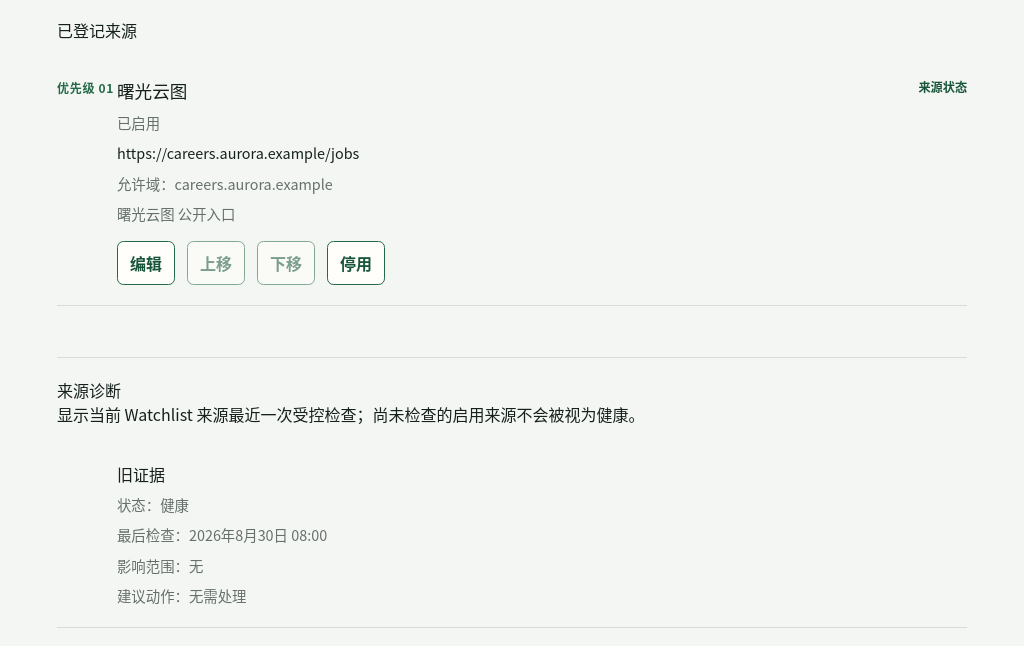
it: health 刷新失败后编辑或取消不会移除恢复入口，重试成功才恢复诊断
(page scrolled)
Click the button with aria-label "停用 曙光云图" at (356, 263), box [327, 241, 385, 285]
(page scrolled)
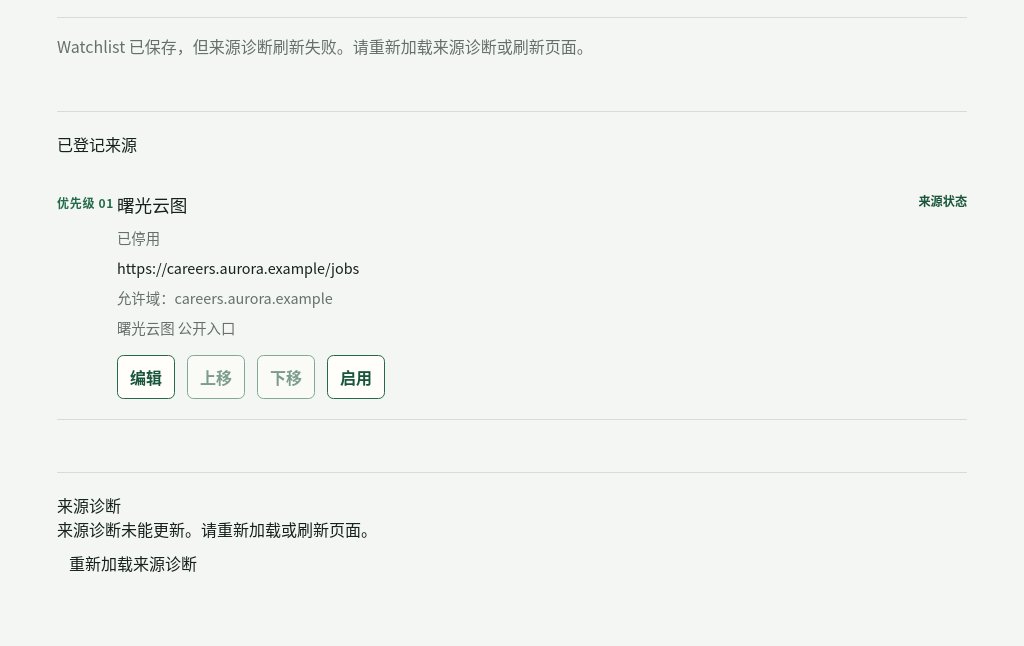
Expected: the message does not show "来源已停用。", [57, 17, 967, 60]
Now the text "Watchlist 已保存，但来源诊断刷新失败。请重新加载来源诊断或刷新页面。" is shown, box [57, 17, 967, 60]
Now the message reads "Watchlist 已保存，但来源诊断刷新失败。请重新加载来源诊断或刷新页面。", box [57, 34, 593, 58]
Click the button with aria-label "编辑 曙光云图" at (146, 377), box [117, 355, 175, 399]
(page scrolled)
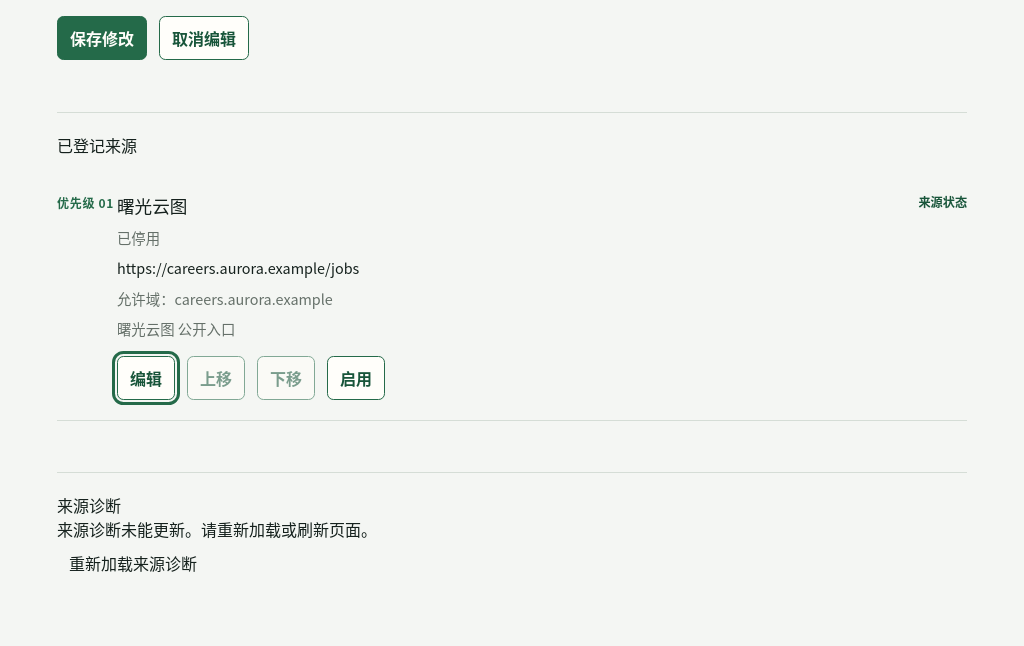
Now the button "重新加载来源诊断" is shown, box [57, 541, 209, 585]
Click the button "取消编辑" at (204, 38), box [159, 16, 249, 60]
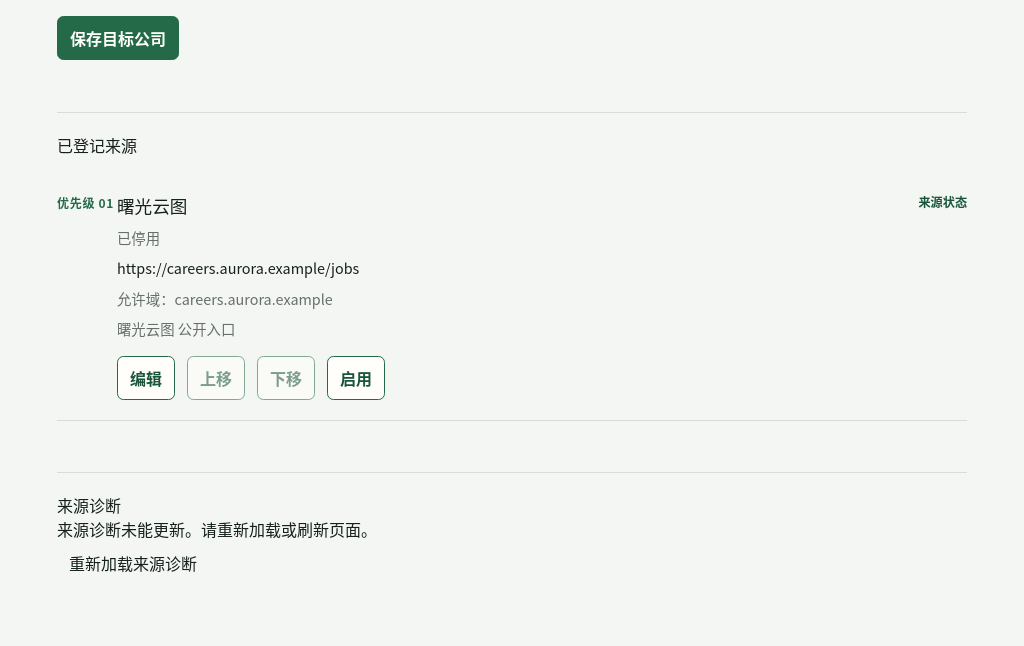
Now the button "重新加载来源诊断" is shown
Click the button "重新加载来源诊断" at (133, 563), box [57, 541, 209, 585]
(page scrolled)
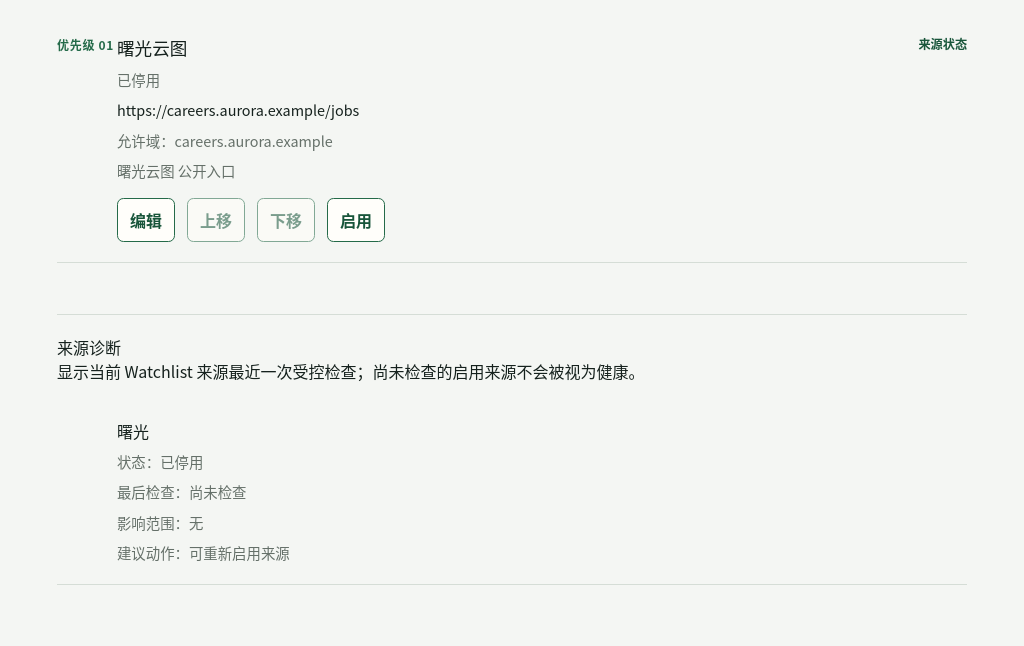
Now the element named "曙光 来源诊断" shows "已停用", box [160, 451, 203, 472]
Now the button "重新加载来源诊断" is gone
